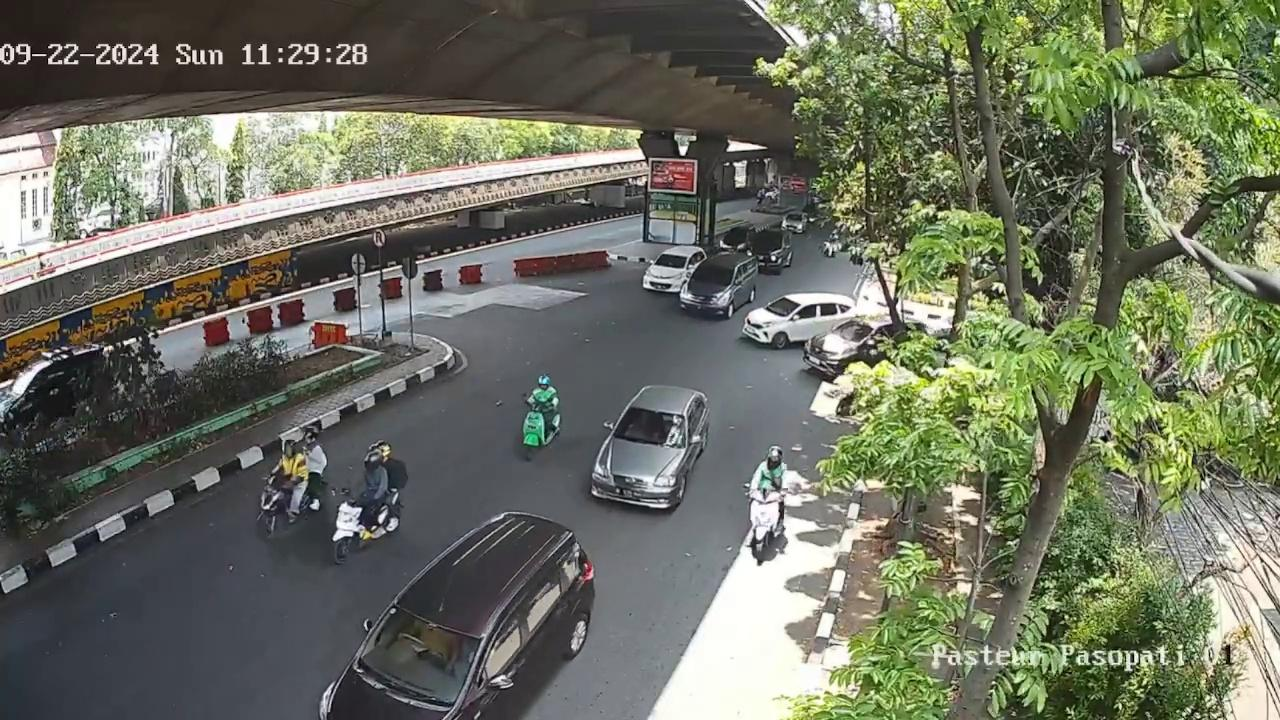tidak-pakai: (403, 614, 456, 666)
windshield: (360, 603, 478, 702), (612, 403, 690, 446), (693, 263, 735, 285), (765, 296, 797, 313), (655, 254, 684, 265)
